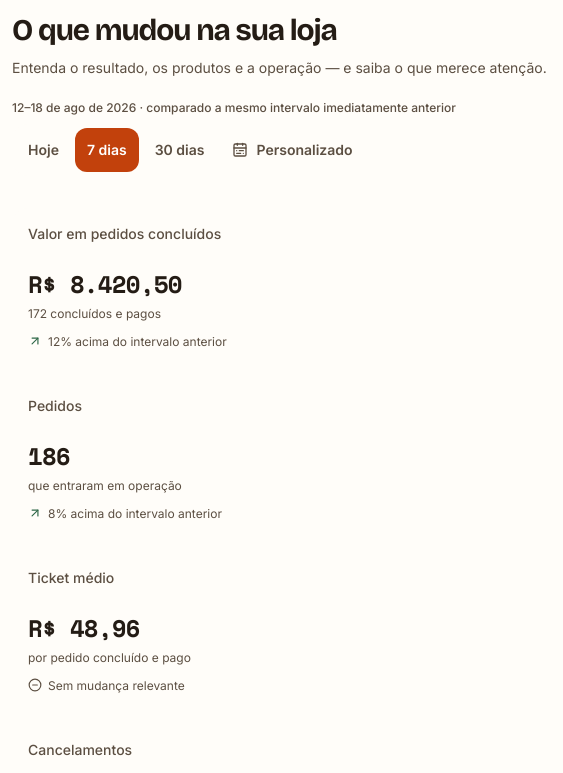
it: interface dos relatórios avançados V2 › troca o período pela Server Action e atualiza o conteúdo
Click the button "Hoje": (43,150) [16,128,71,172]
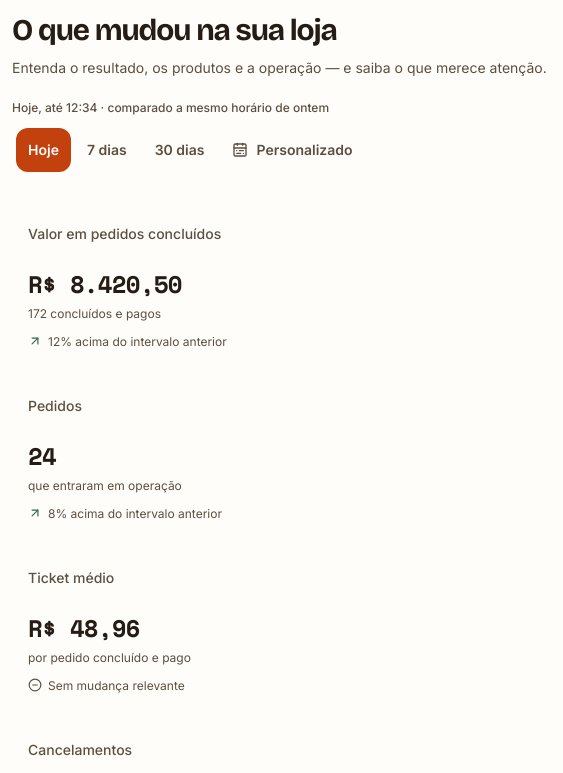
expect the text "Hoje, até 12:34 · comparado a mesmo horário de ontem" is shown: met, box [12,100,329,115]
